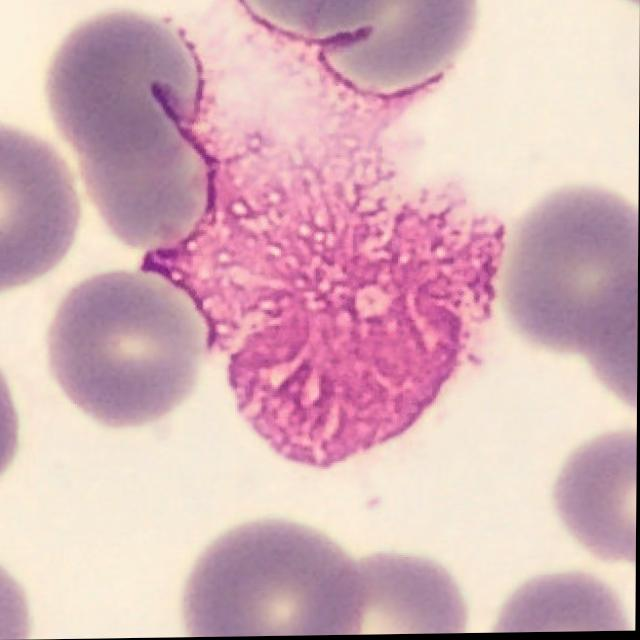Artefato: (140, 0, 505, 470)
